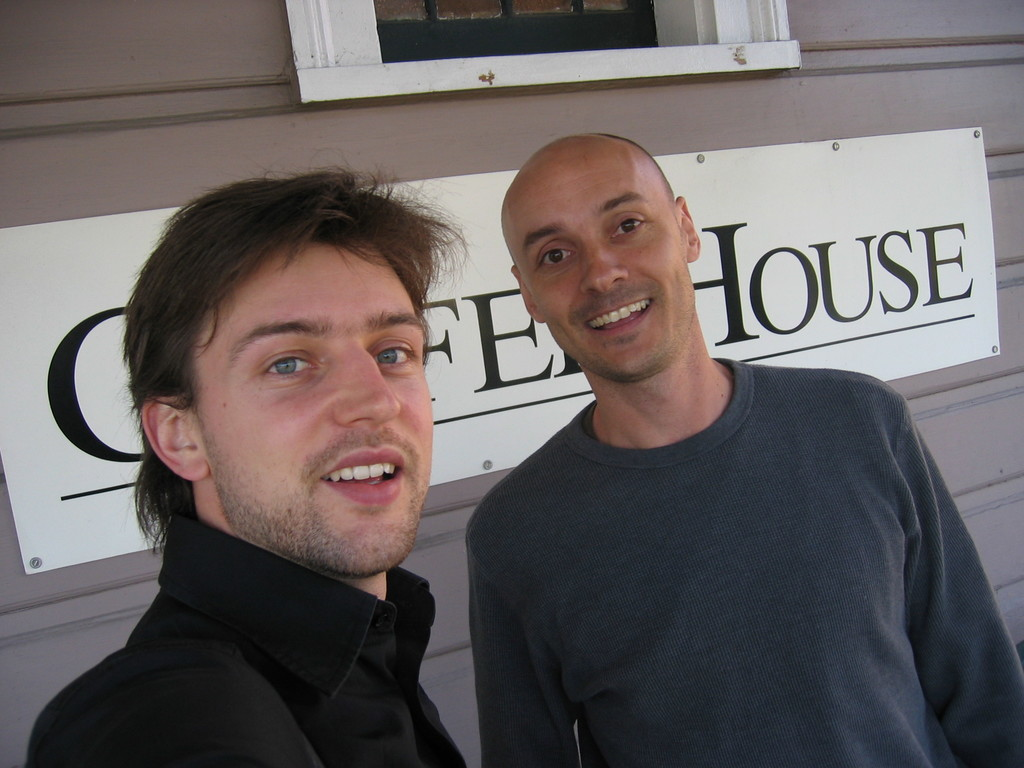Human-face: (181, 239, 435, 578), (502, 148, 694, 388)
